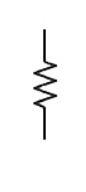resistor: (25, 45, 64, 118)
